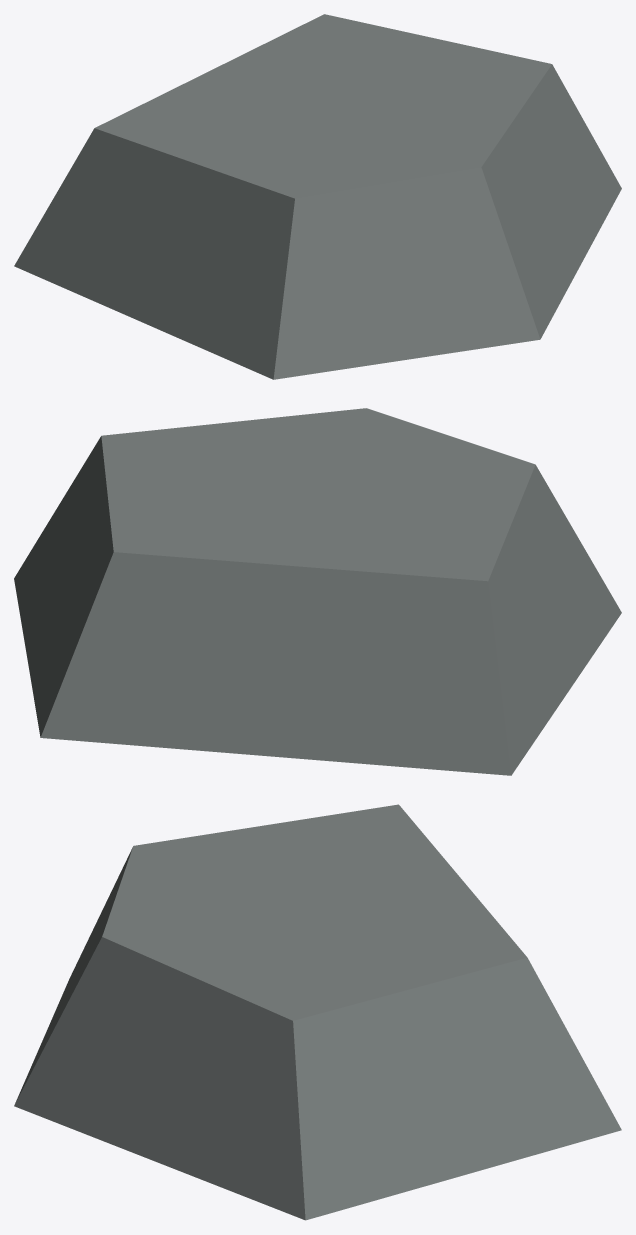
File: SM_Env_Generic_River_Stone_01.glb
3 renders of one model, top to bottom at view 1: azimuth 30°, elevation 25°; view 2: azimuth 150°, elevation 25°; view 3: azimuth 270°, elevation 25°, orthographic. The views are drawn at different scales.
Parts seen in each view (by area): view 1: SM_Env_Generic_River_Stone_01; view 2: SM_Env_Generic_River_Stone_01; view 3: SM_Env_Generic_River_Stone_01.
Part boxes in pixels (left/top/right/bottom): SM_Env_Generic_River_Stone_01: left=14, top=14, right=621, bottom=379; SM_Env_Generic_River_Stone_01: left=14, top=408, right=621, bottom=775; SM_Env_Generic_River_Stone_01: left=14, top=804, right=621, bottom=1220.
Size of the model in its own units: 0.3919 by 0.1029 by 0.3554.
Materials: 1 (1 with a texture image).
